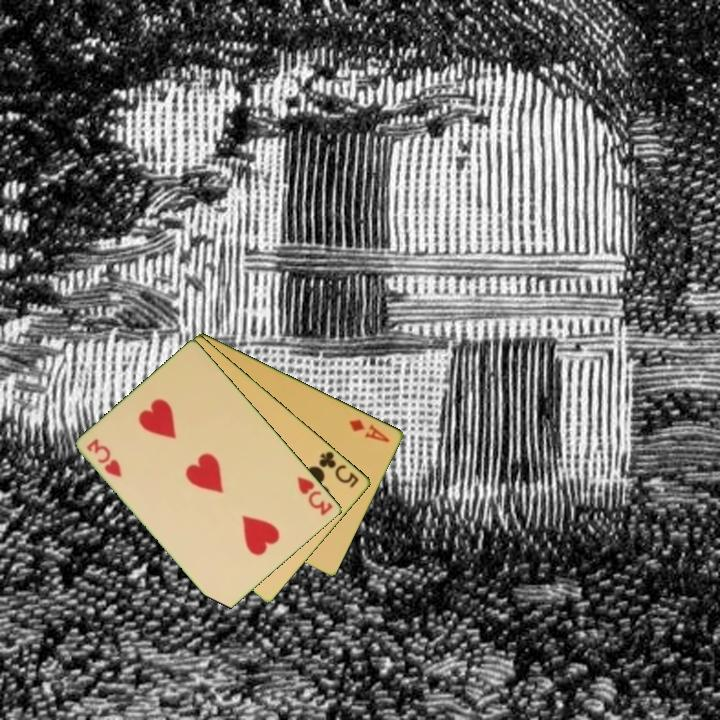3h: (294, 473, 336, 519), (83, 435, 125, 480)
5c: (315, 447, 362, 491)
Ad: (346, 415, 393, 445)
